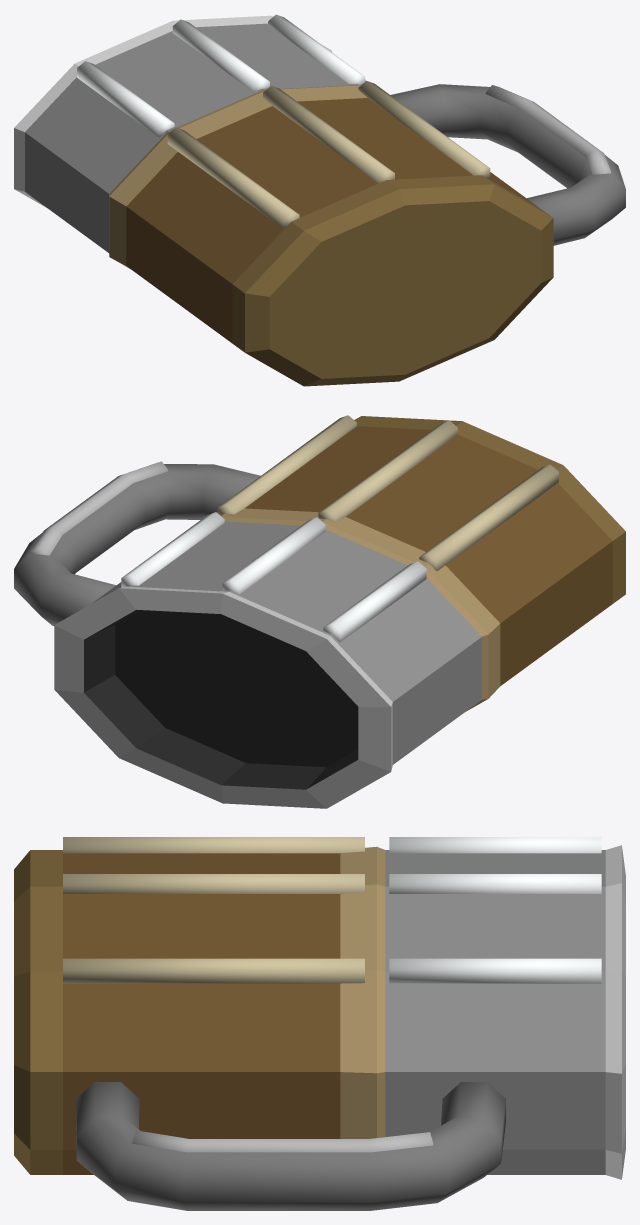
Rendered from tyrian10-241.glb.
3 views of the same model, one above another, from view 1: azimuth 30°, elevation 25°; view 2: azimuth 150°, elevation 25°; view 3: azimuth 270°, elevation 25° (orthographic). The views are drawn at different scales.
Parts seen in each view (by area): view 1: tyrian10-241, tyrian10-241_parts; view 2: tyrian10-241, tyrian10-241_parts; view 3: tyrian10-241, tyrian10-241_parts.
Part boxes in pixels (x1=…): tyrian10-241: x1=14, y1=15, x2=553, y2=386; tyrian10-241_parts: x1=77, y1=14, x2=625, y2=245; tyrian10-241: x1=54, y1=416, x2=625, y2=808; tyrian10-241_parts: x1=14, y1=415, x2=558, y2=642; tyrian10-241: x1=14, y1=845, x2=625, y2=1179; tyrian10-241_parts: x1=63, y1=837, x2=601, y2=1210.
Size of the model in its own units: 1.35 by 0.6043 by 1.25.
